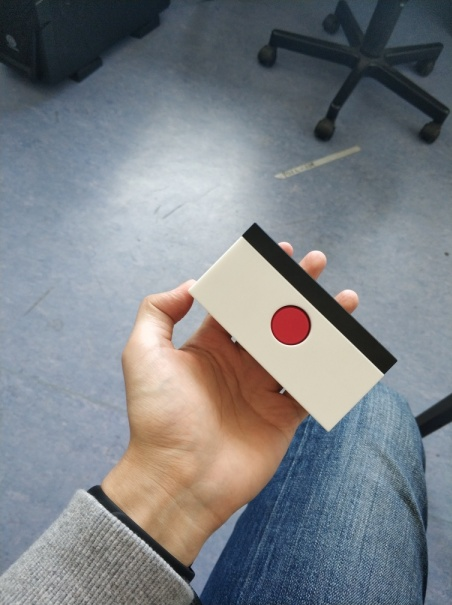black+white+red: (183, 221, 401, 436)
